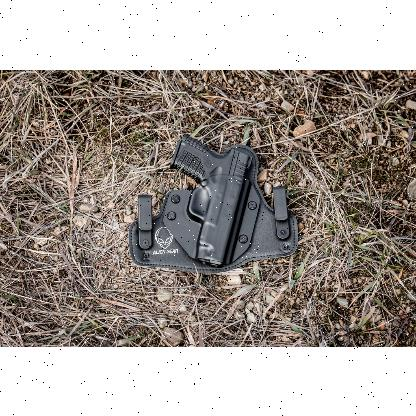gun: (169, 132, 252, 266)
